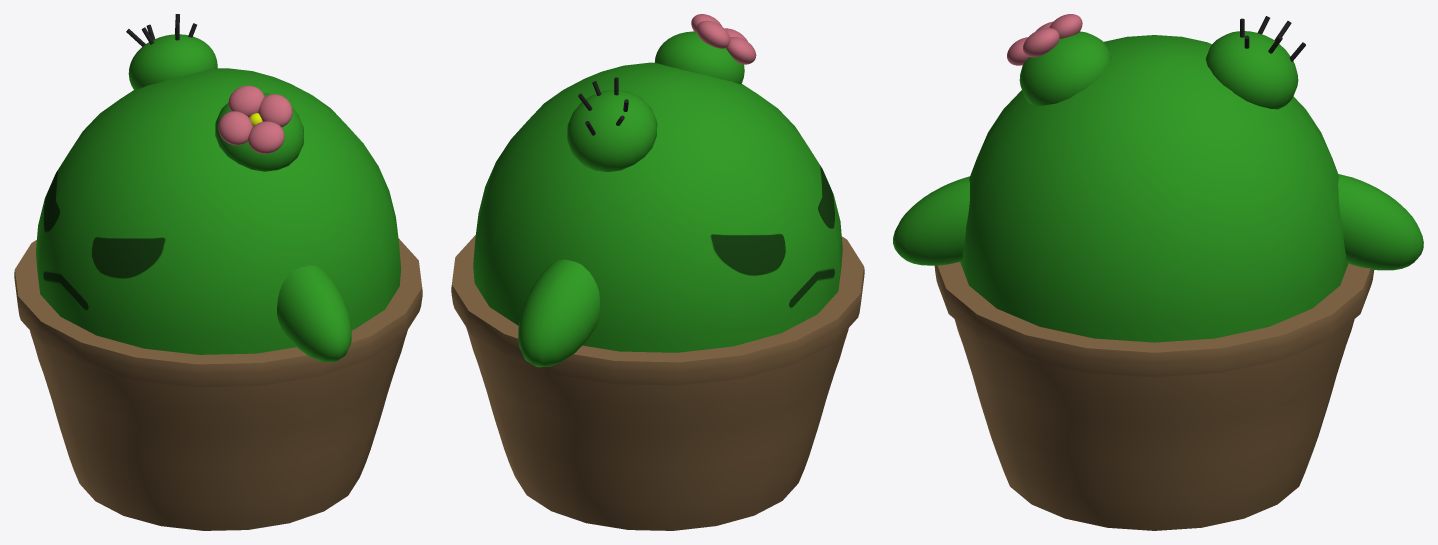
The model's file is saboten.fbx.
3 renders of one model, left to right at view 1: azimuth 30°, elevation 25°; view 2: azimuth 150°, elevation 25°; view 3: azimuth 270°, elevation 25°, orthographic. The views are drawn at different scales.
Parts seen in each view (by area): view 1: pSphere1, pCylinder1, pCylinder2, pSphere2, pSphere11, pSphere4, pSphere5; view 2: pSphere1, pCylinder1, pCylinder2, pSphere3, pSphere4, pSphere5, pSphere11; view 3: pSphere1, pCylinder1, pCylinder2, pSphere3, pSphere4, pSphere2, pSphere5, pSphere11.
Boxes of the visible parts, x1,y1,x2,y2 form: pSphere1: (36, 68, 400, 354); pCylinder1: (30, 330, 407, 530); pCylinder2: (14, 238, 422, 387); pSphere2: (277, 265, 351, 362); pSphere11: (218, 85, 292, 153); pSphere4: (128, 34, 217, 89); pSphere5: (215, 92, 303, 171); pSphere1: (473, 62, 842, 352); pCylinder1: (466, 327, 848, 530); pCylinder2: (451, 235, 864, 385); pSphere3: (518, 259, 600, 367); pSphere4: (567, 90, 657, 172); pSphere5: (654, 31, 744, 84); pSphere11: (691, 14, 756, 64); pSphere1: (960, 35, 1348, 342); pCylinder1: (954, 319, 1354, 530); pCylinder2: (934, 262, 1374, 377); pSphere3: (1338, 174, 1423, 270); pSphere4: (1205, 31, 1298, 109); pSphere2: (893, 176, 969, 265); pSphere5: (1019, 31, 1111, 105); pSphere11: (1007, 14, 1082, 65).
Size of the model in its own units: 2.51 by 2.81 by 3.03.
